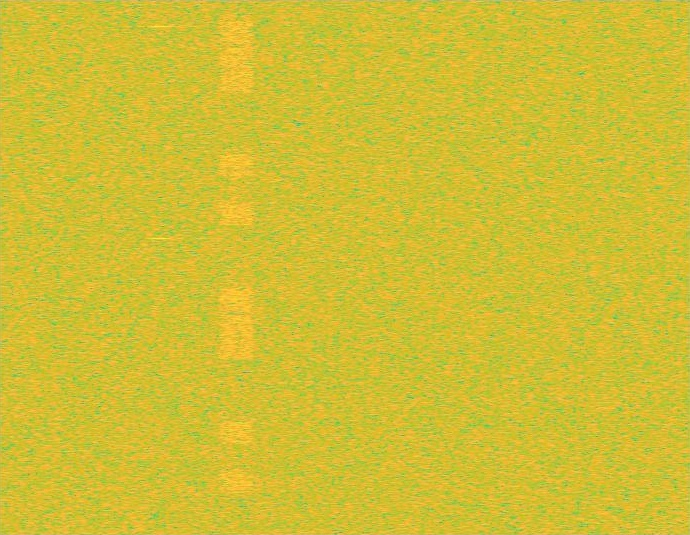LTE: (219, 0, 254, 534)
Radar: (153, 0, 167, 534)
